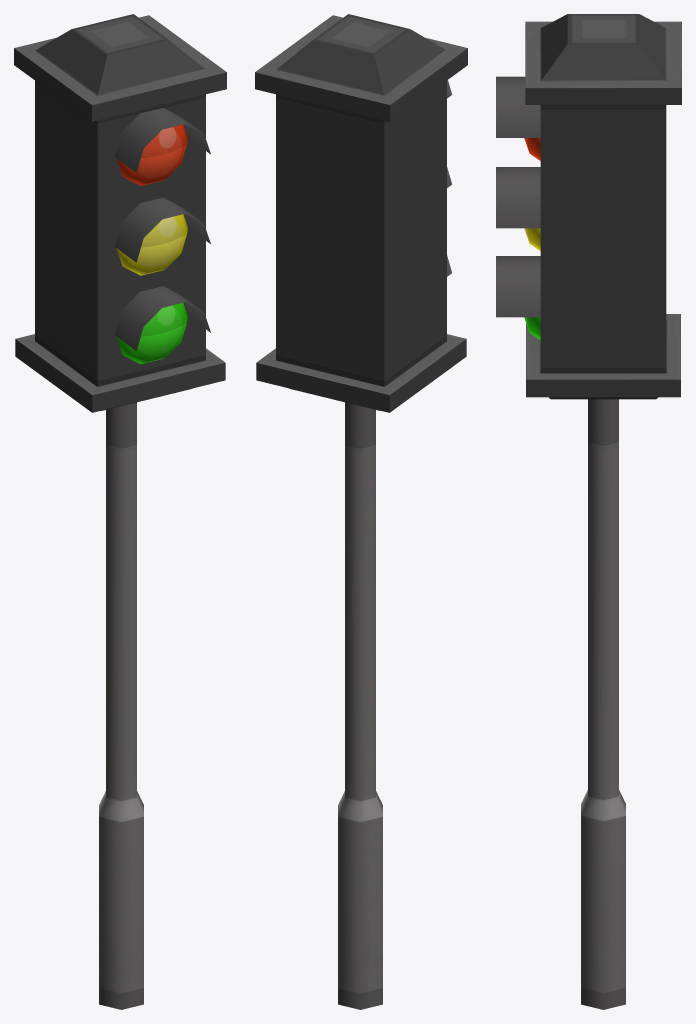
Rendered from city_traffic_light.glb.
3 views of the same model, side by side, from view 1: azimuth 30°, elevation 25°; view 2: azimuth 150°, elevation 25°; view 3: azimuth 270°, elevation 25° (orthographic).
Parts seen in each view (by area): view 1: city:polySurface315; view 2: city:polySurface315; view 3: city:polySurface315.
Boxes of the visible parts, x1=… form: city:polySurface315: x1=14, y1=14, x2=226, y2=1009; city:polySurface315: x1=255, y1=14, x2=467, y2=1009; city:polySurface315: x1=496, y1=14, x2=681, y2=1009.
Size of the model in its own units: 0.5216 by 3.56 by 0.6183.
Materials: 1 (1 with a texture image).
